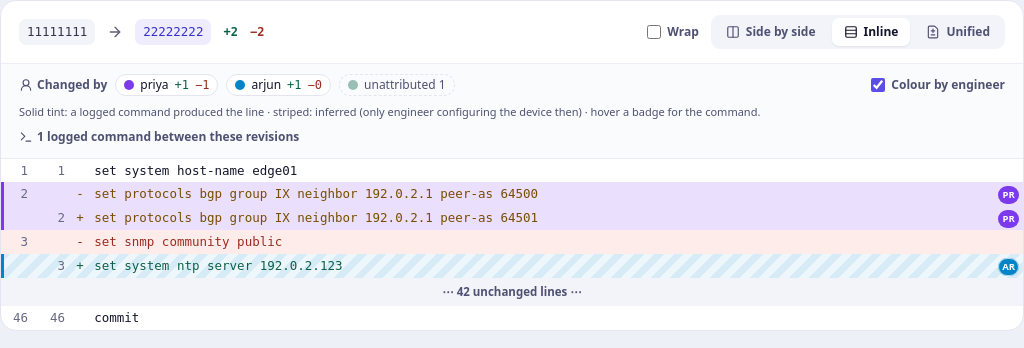
Scenario: engineer attribution › can be switched off
Expected: the number of elements with test id "diff-author-chip" is 3, x1=998 y1=186 x2=1019 y2=204; x1=998 y1=210 x2=1019 y2=228; x1=998 y1=258 x2=1019 y2=276
What coordinates should you click on to do the following:
click the checkbox labelled "Colour by engineer"
I would click on:
 (878, 85)
Its box is x1=871 y1=78 x2=885 y2=92.
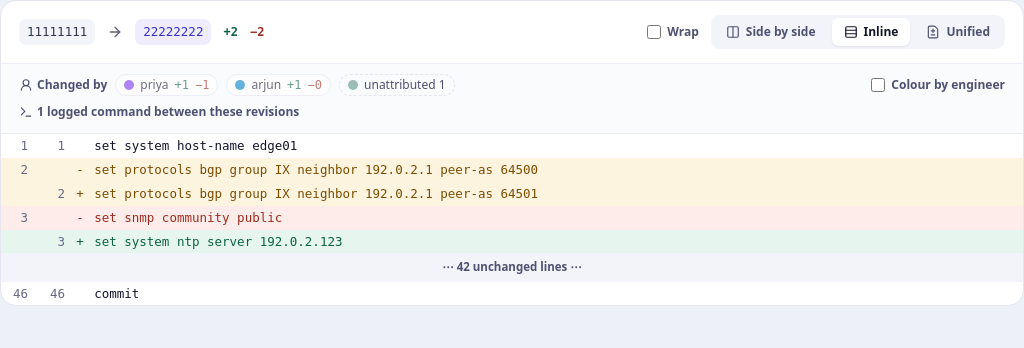
Result: no elements with test id "diff-author-chip" are shown
